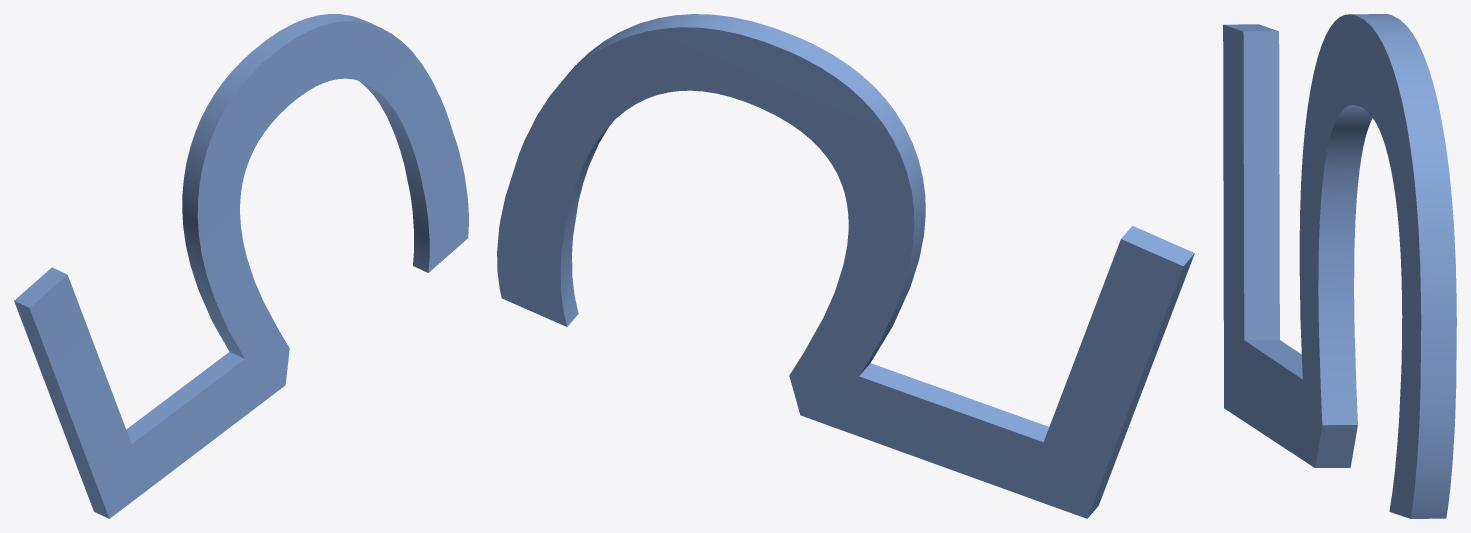
The model's file is New_Number_5.gltf.
The picture shows the model from 3 angles, left to right: view 1: azimuth 30°, elevation 25°; view 2: azimuth 150°, elevation 25°; view 3: azimuth 270°, elevation 25°; orthographic projection. The views are drawn at different scales.
Visible parts, largest first — view 1: Part 131; view 2: Part 131; view 3: Part 131.
Boxes of the visible parts, <box> form: Part 131: <box>14,14,468,518</box>; Part 131: <box>497,14,1194,518</box>; Part 131: <box>1223,14,1456,518</box>.
Bounding box in the file's own units: 0.00593 × 0.00432 × 0.00166.
